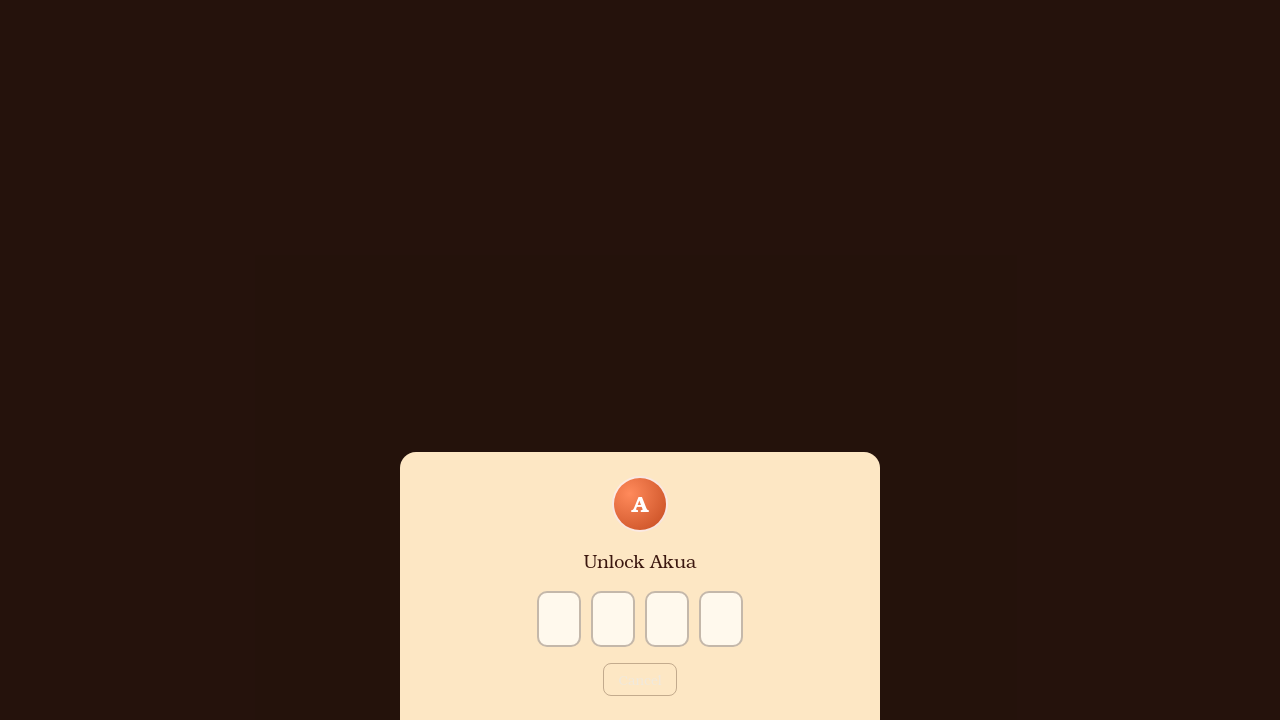
UnlockSheet › wrong PIN shows error and re-enables input
This screenshot has width=1280, height=720.
Type "0" into the field named "PIN digit 1". click: (559,618)
box: x1=537 y1=590 x2=581 y2=646
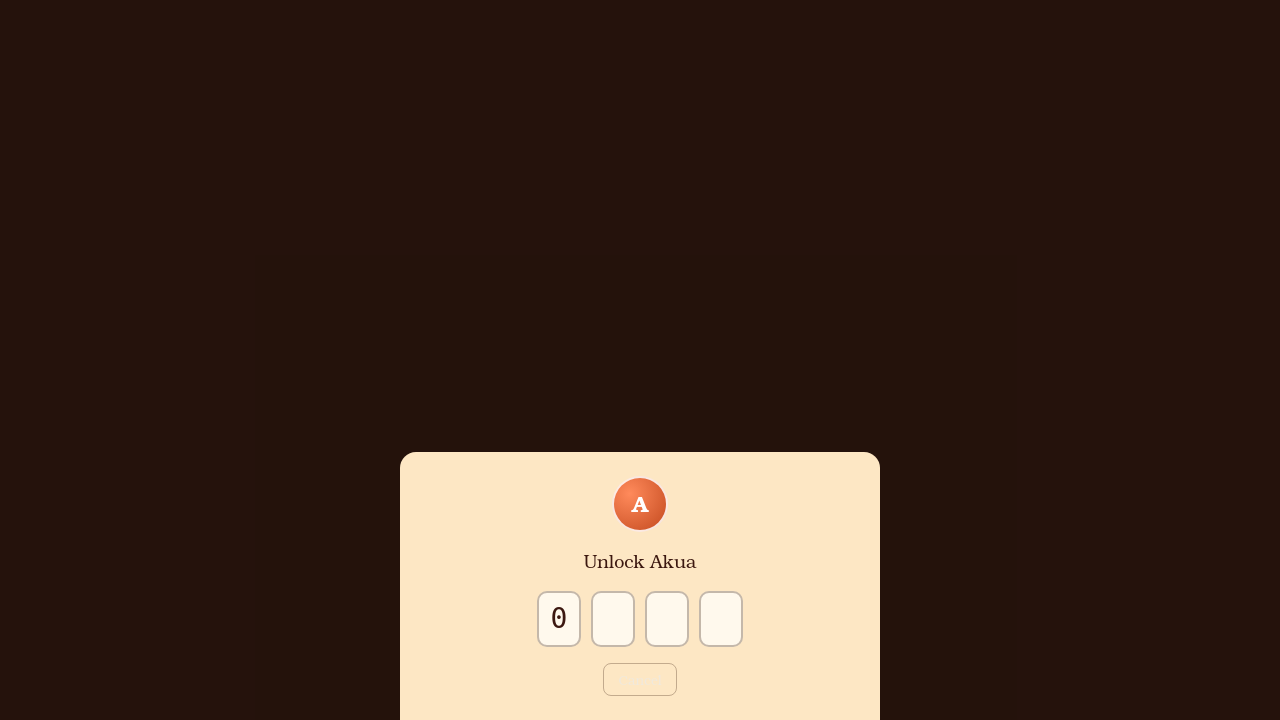
Type "0" into the field named "PIN digit 2". click: (613,618)
box: x1=591 y1=590 x2=635 y2=646
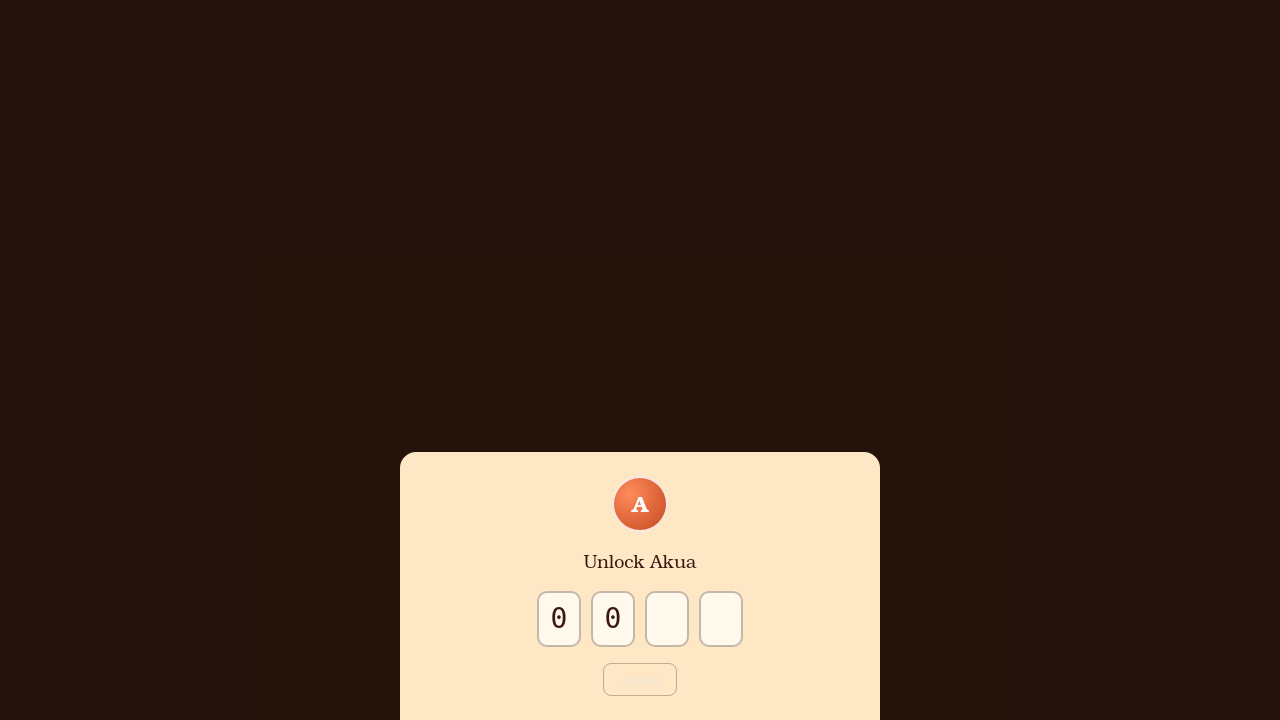
Type "0" into the field named "PIN digit 3". click: (667,618)
box: x1=645 y1=590 x2=689 y2=646
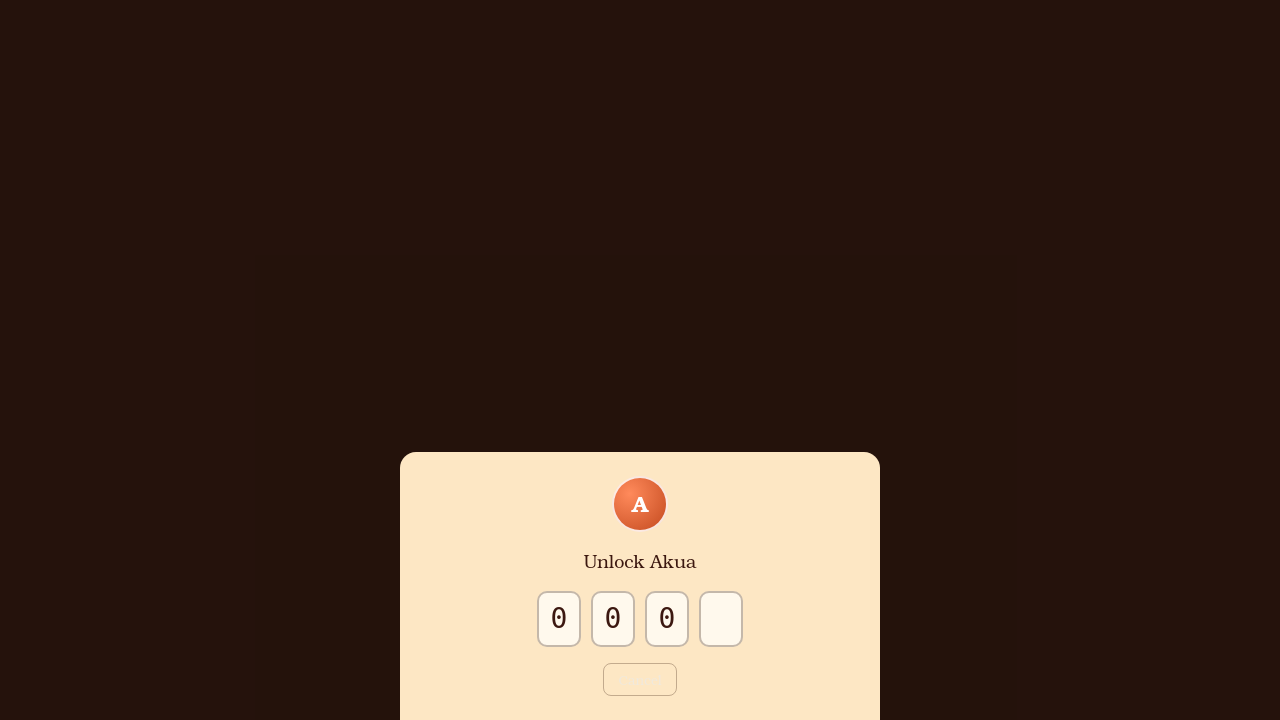
Type "0" into the field named "PIN digit 4". click: (721,618)
box: x1=699 y1=590 x2=743 y2=646
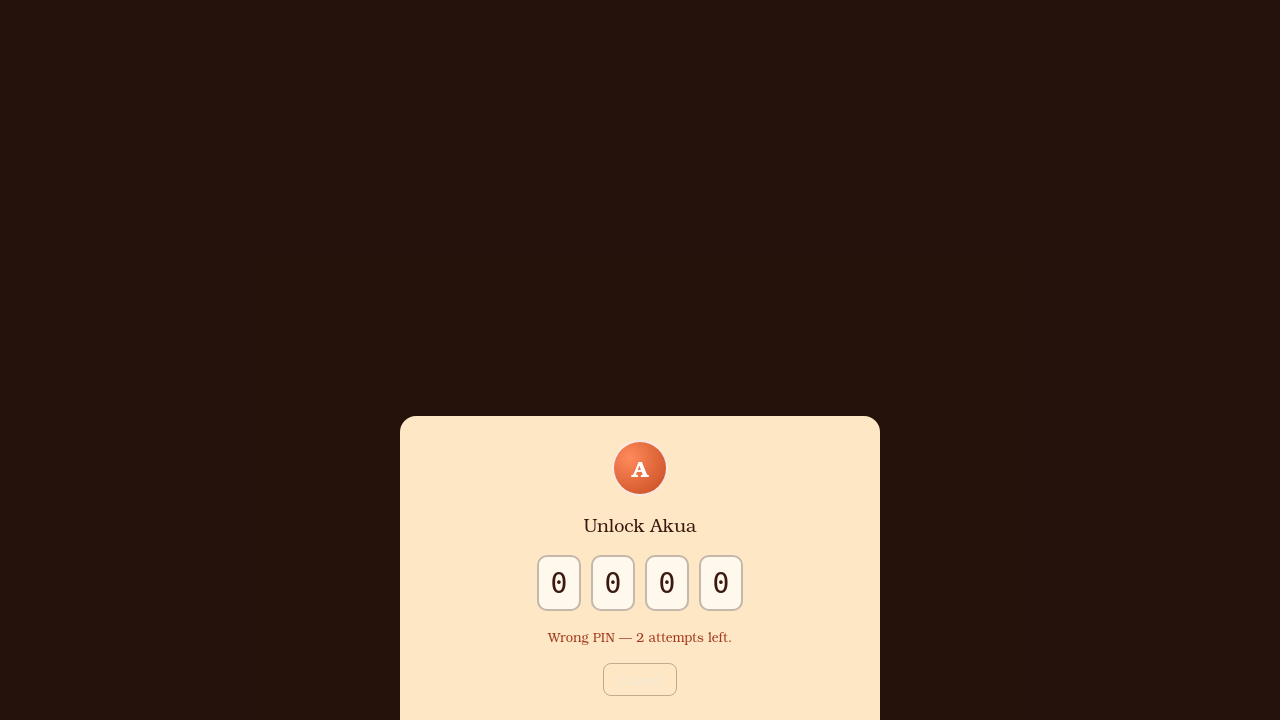
expect the field named "PIN digit 1" is enabled: met, box x1=537 y1=555 x2=581 y2=611
expect the message shows "Wrong": met, box x1=548 y1=628 x2=732 y2=645
